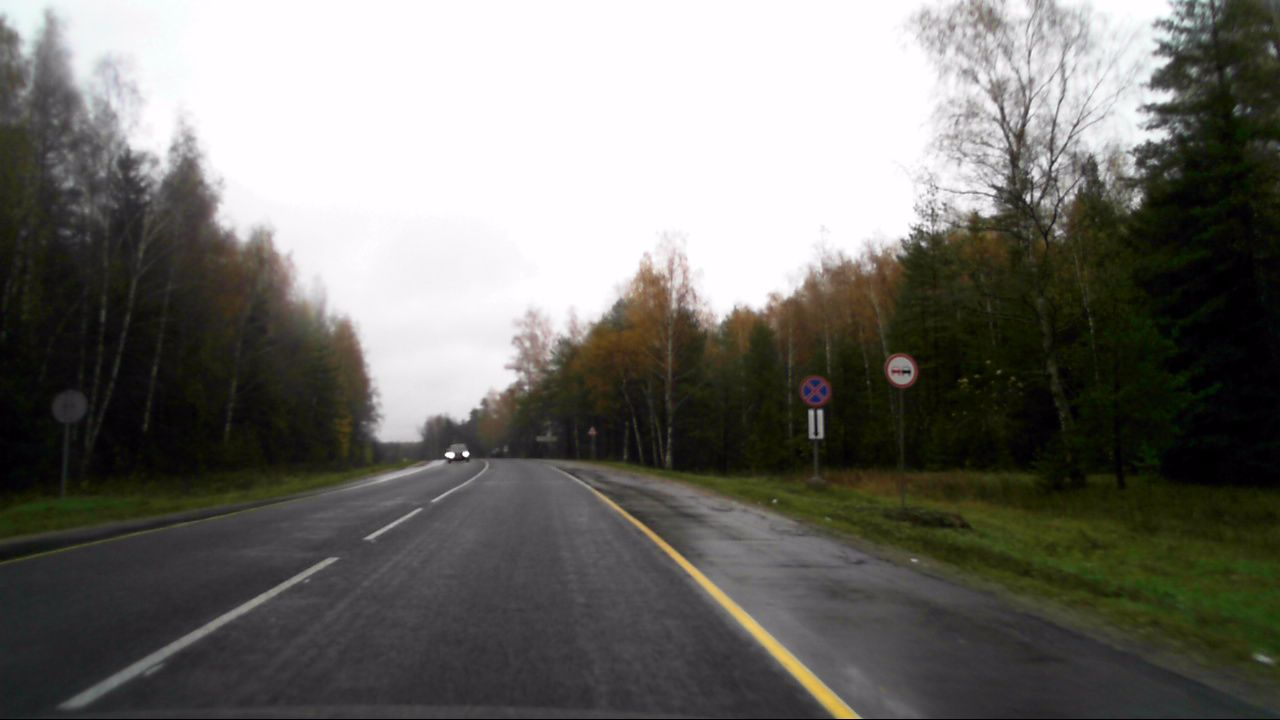No Parking: (796, 371, 830, 407)
